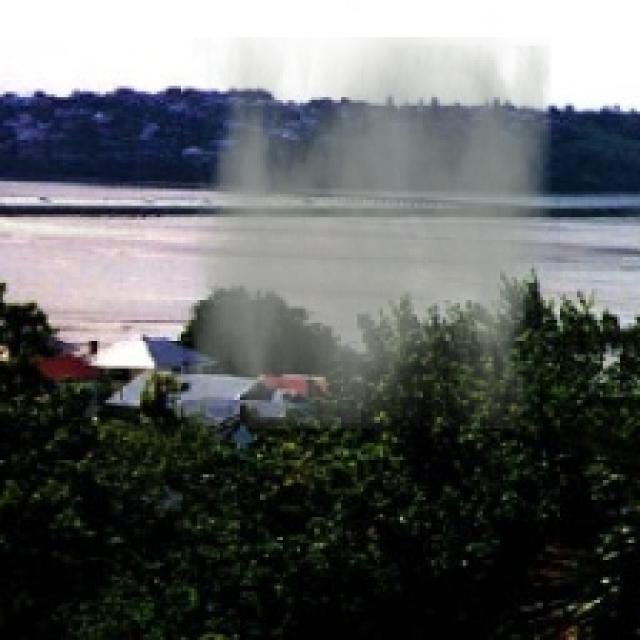smoke: (192, 37, 552, 429)
